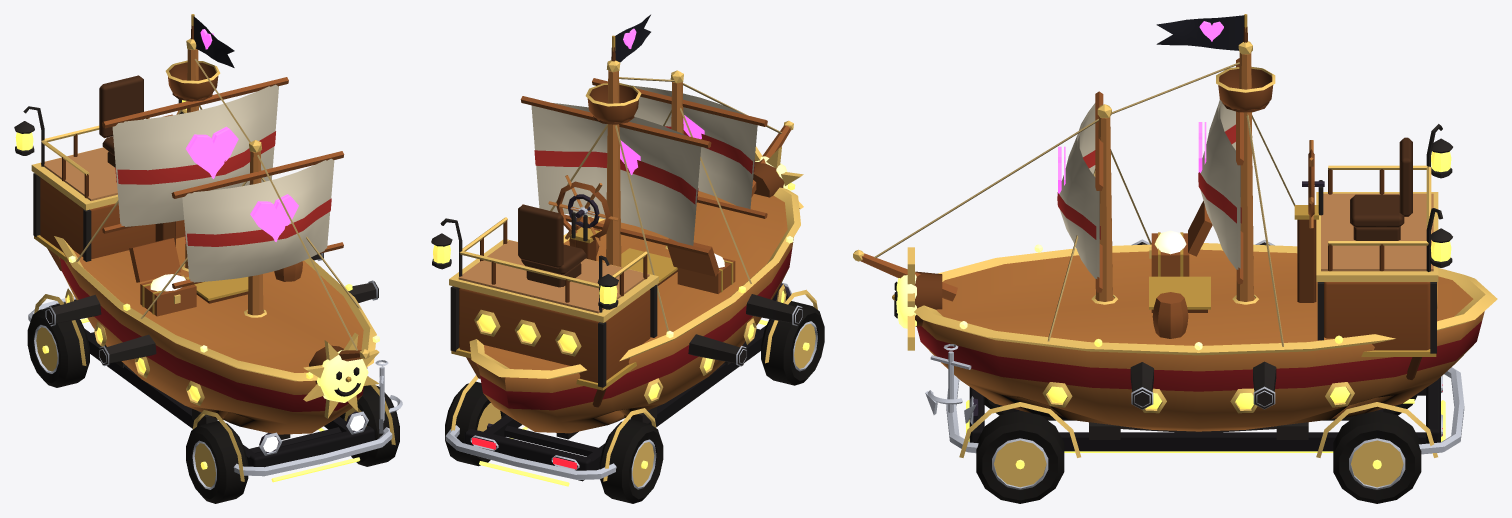
File: dusty_doubloon_lo.glb
The picture shows the model from 3 angles, left to right: view 1: azimuth 30°, elevation 25°; view 2: azimuth 150°, elevation 25°; view 3: azimuth 270°, elevation 25°; orthographic projection. The views are drawn at different scales.
Parts seen in each view (by area): view 1: hull_shell, sailMain_front, sailFore_front, castle, gunwale, wheel_FR_tyre, wheel_RR_tyre, castle_deck, sailMain_band_f, bar_front, seat_back, wheel_FL_tyre (+26 smaller); view 2: hull_shell, sailMain_back, castle, sailFore_back, castle_deck, gunwale, wheel_RR_tyre, wheel_FR_tyre, seat_back, castle_trim, mast_main, sailMain_band_b (+33 smaller); view 3: hull_shell, gunwale, castle, castle_deck, rail_1, wheel_FL_tyre, wheel_RL_tyre, sailMain_front, sailFore_front, mast_main, mast_fore, castle_trim (+24 smaller).
Boxes of the visible parts, x1=… form: hull_shell: x1=60, y1=236, x2=367, y2=434; sailMain_front: x1=113, y1=84, x2=278, y2=226; sailFore_front: x1=183, y1=158, x2=334, y2=282; castle: x1=40, y1=178, x2=185, y2=258; gunwale: x1=54, y1=236, x2=376, y2=381; wheel_FR_tyre: x1=186, y1=421, x2=248, y2=503; wheel_RR_tyre: x1=27, y1=305, x2=89, y2=387; castle_deck: x1=41, y1=147, x2=117, y2=200; sailMain_band_f: x1=117, y1=131, x2=275, y2=184; bar_front: x1=249, y1=426, x2=375, y2=467; seat_back: x1=99, y1=75, x2=143, y2=138; wheel_FL_tyre: x1=340, y1=385, x2=399, y2=466; hull_shell: x1=478, y1=190, x2=793, y2=433; sailMain_back: x1=531, y1=104, x2=700, y2=245; castle: x1=459, y1=288, x2=650, y2=382; sailFore_back: x1=634, y1=87, x2=756, y2=208; castle_deck: x1=458, y1=240, x2=649, y2=313; gunwale: x1=469, y1=187, x2=800, y2=378; wheel_RR_tyre: x1=599, y1=419, x2=663, y2=503; wheel_FR_tyre: x1=761, y1=301, x2=824, y2=385; seat_back: x1=518, y1=204, x2=563, y2=268; castle_trim: x1=449, y1=239, x2=658, y2=322; mast_main: x1=606, y1=70, x2=621, y2=266; sailMain_band_b: x1=534, y1=150, x2=696, y2=204; hull_shell: x1=917, y1=249, x2=1484, y2=431; gunwale: x1=914, y1=243, x2=1497, y2=355; castle: x1=1324, y1=282, x2=1430, y2=350; castle_deck: x1=1321, y1=193, x2=1433, y2=271; rail_1: x1=1059, y1=432, x2=1426, y2=451; wheel_FL_tyre: x1=976, y1=411, x2=1064, y2=503; wheel_RL_tyre: x1=1333, y1=411, x2=1421, y2=503; sailMain_front: x1=1200, y1=100, x2=1238, y2=269; sailFore_front: x1=1059, y1=103, x2=1097, y2=278; mast_main: x1=1236, y1=52, x2=1253, y2=301; mast_fore: x1=1095, y1=116, x2=1112, y2=301; castle_trim: x1=1316, y1=192, x2=1438, y2=281.
Size of the model in its own units: 3.77 by 5.19 by 6.86.
